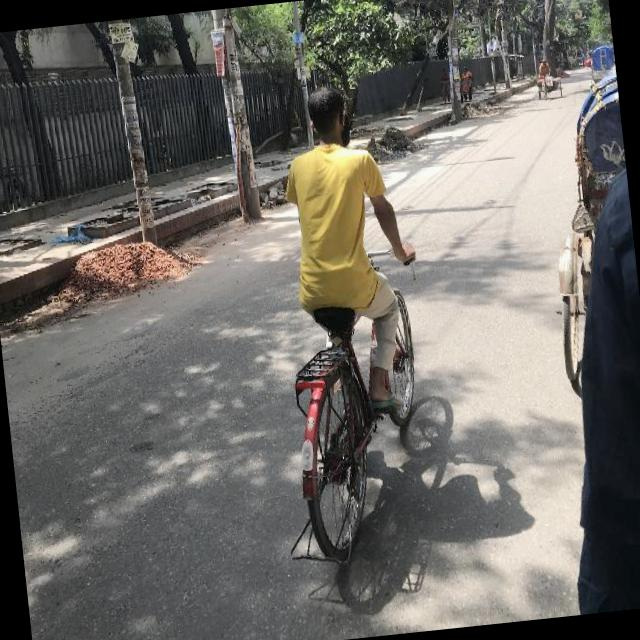motorcycle: (534, 72, 640, 379), (588, 45, 616, 87)
